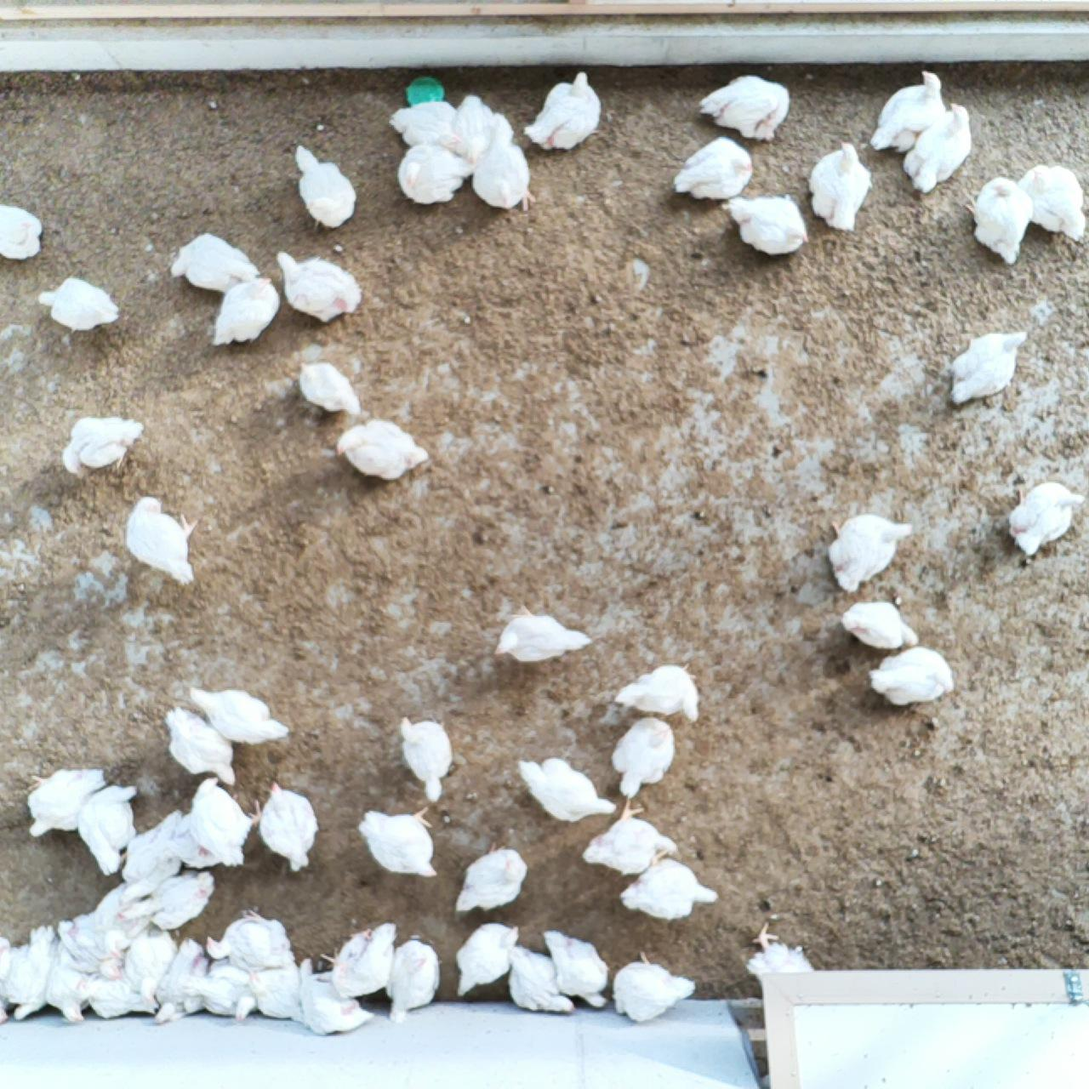chicken: (581, 795, 679, 879), (614, 850, 722, 924), (821, 511, 915, 593), (125, 492, 202, 589), (523, 67, 605, 155), (516, 755, 619, 825), (273, 245, 364, 324), (947, 327, 1033, 410), (696, 70, 793, 143), (868, 66, 947, 155), (901, 101, 974, 195), (319, 919, 401, 1002), (296, 957, 378, 1040), (612, 947, 699, 1025), (1006, 478, 1088, 559), (332, 420, 435, 484), (965, 173, 1035, 267), (187, 682, 291, 745), (807, 139, 875, 235), (75, 781, 143, 877), (865, 641, 958, 711), (115, 867, 218, 930), (356, 805, 441, 881), (26, 763, 109, 840), (492, 601, 594, 663), (188, 776, 255, 870), (292, 139, 361, 230), (60, 414, 145, 485), (541, 925, 611, 1011), (453, 917, 523, 1003), (453, 839, 530, 917), (170, 229, 261, 295), (168, 704, 242, 785), (1019, 157, 1086, 245), (122, 805, 184, 900), (204, 905, 298, 967), (258, 778, 319, 873), (671, 135, 756, 203), (609, 715, 676, 801), (723, 190, 810, 256), (612, 660, 703, 723), (385, 932, 446, 1025), (151, 935, 212, 1025), (506, 942, 577, 1018), (1, 924, 56, 1021), (210, 276, 282, 349), (398, 713, 455, 804), (472, 138, 537, 217), (395, 142, 472, 207), (36, 274, 121, 331), (78, 968, 161, 1025), (741, 918, 817, 978), (180, 963, 259, 1020), (94, 877, 149, 954), (295, 358, 363, 418), (842, 599, 923, 649), (124, 926, 178, 1001), (53, 935, 95, 1027), (445, 91, 494, 166), (388, 100, 460, 148), (71, 913, 125, 976), (246, 966, 304, 1023), (167, 809, 219, 870), (0, 202, 46, 262)
